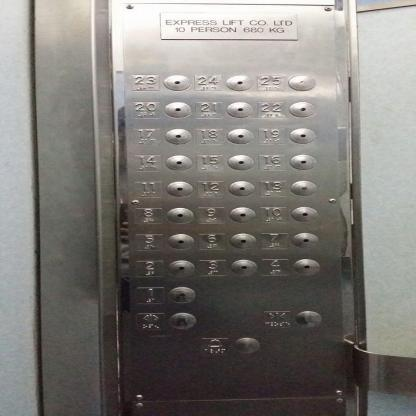1: (133, 286, 165, 304)
10: (257, 206, 288, 224)
11: (131, 180, 163, 198)
12: (194, 180, 227, 198)
13: (256, 179, 289, 197)
14: (130, 153, 162, 171)
15: (194, 153, 224, 171)
16: (256, 153, 286, 171)
17: (129, 127, 161, 144)
18: (193, 127, 225, 144)
19: (256, 127, 287, 144)
2: (133, 258, 165, 276)
20: (129, 100, 160, 118)
21: (193, 100, 224, 118)
22: (255, 100, 286, 118)
23: (128, 73, 160, 92)
24: (192, 74, 223, 92)
25: (255, 74, 286, 92)
3: (196, 258, 227, 276)
4: (258, 258, 290, 276)
5: (133, 232, 164, 250)
6: (196, 232, 227, 250)
7: (258, 231, 290, 249)
8: (133, 206, 164, 224)
9: (195, 206, 226, 224)
alarm: (198, 336, 230, 354)
close: (260, 310, 292, 328)
empty: (160, 73, 192, 92), (223, 73, 255, 92), (285, 73, 317, 92), (223, 100, 255, 119), (163, 179, 195, 198), (227, 231, 259, 250), (163, 232, 195, 251), (292, 309, 324, 328), (287, 126, 318, 145), (163, 153, 194, 172), (226, 179, 257, 198), (227, 205, 258, 224), (290, 257, 321, 276), (166, 285, 197, 304), (165, 311, 196, 330), (161, 101, 193, 119), (224, 127, 256, 145), (287, 179, 319, 197), (163, 206, 195, 224), (288, 205, 320, 223), (164, 259, 196, 277), (286, 100, 317, 118), (162, 127, 193, 145), (225, 153, 256, 171), (287, 153, 318, 171), (289, 231, 320, 249), (227, 258, 258, 276), (230, 336, 261, 354)
open: (133, 312, 165, 330)
